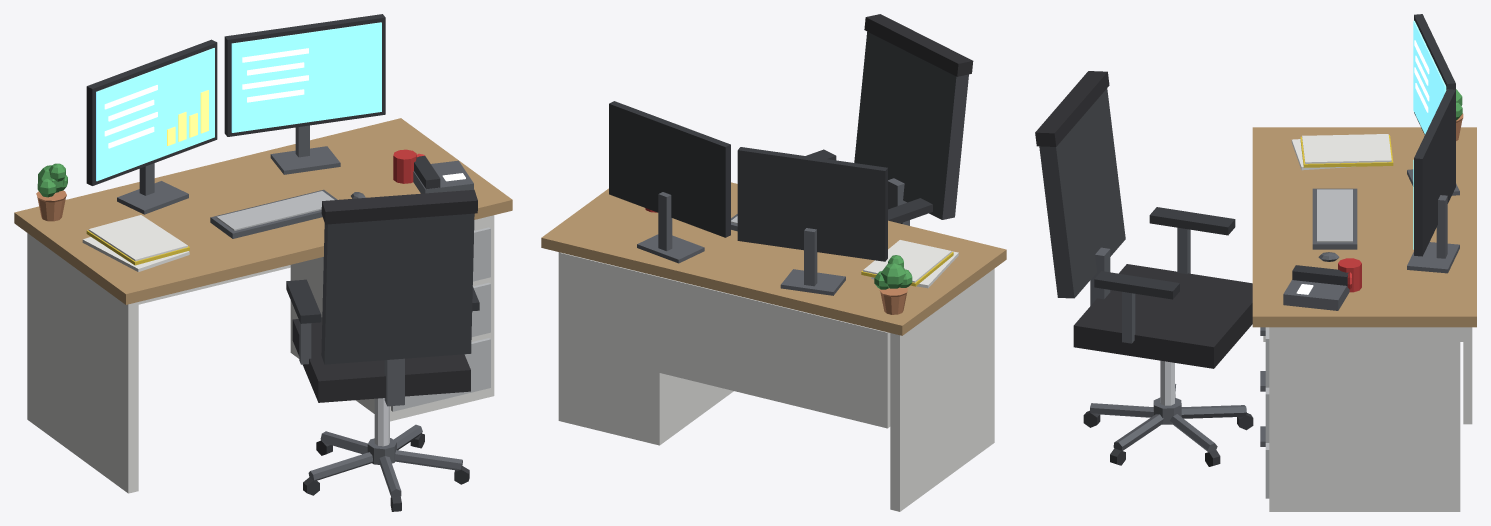
The model's file is office_desk.glb.
3 renders of one model, left to right at view 1: azimuth 30°, elevation 25°; view 2: azimuth 150°, elevation 25°; view 3: azimuth 270°, elevation 25°, orthographic. The views are drawn at different scales.
Visible parts, largest first — view 1: office_desk; view 2: office_desk; view 3: office_desk.
Part boxes in pixels (<box>): office_desk: <box>14,14,512,511</box>; office_desk: <box>541,14,1006,511</box>; office_desk: <box>1035,14,1476,511</box>.
Size of the model in its own units: 1.5 by 1.26 by 1.48.
